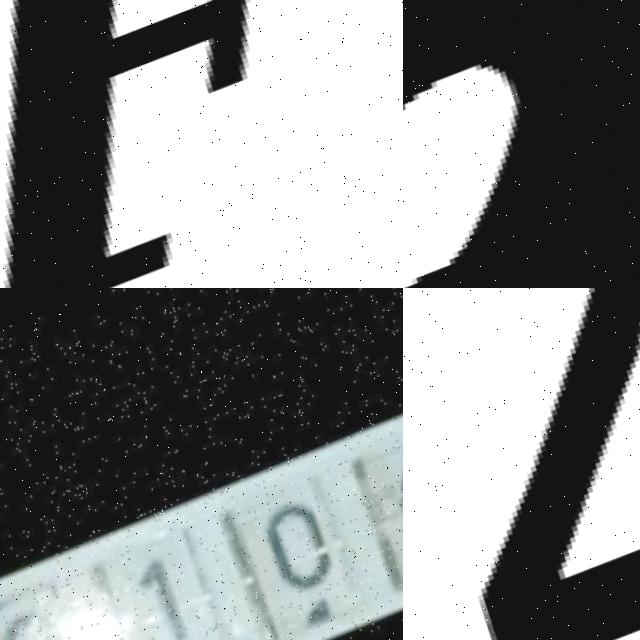0: (244, 493, 352, 615), (0, 597, 90, 640)
1: (116, 541, 214, 640)
2: (403, 0, 640, 288)
6: (371, 437, 403, 558)
F: (0, 0, 403, 288)
